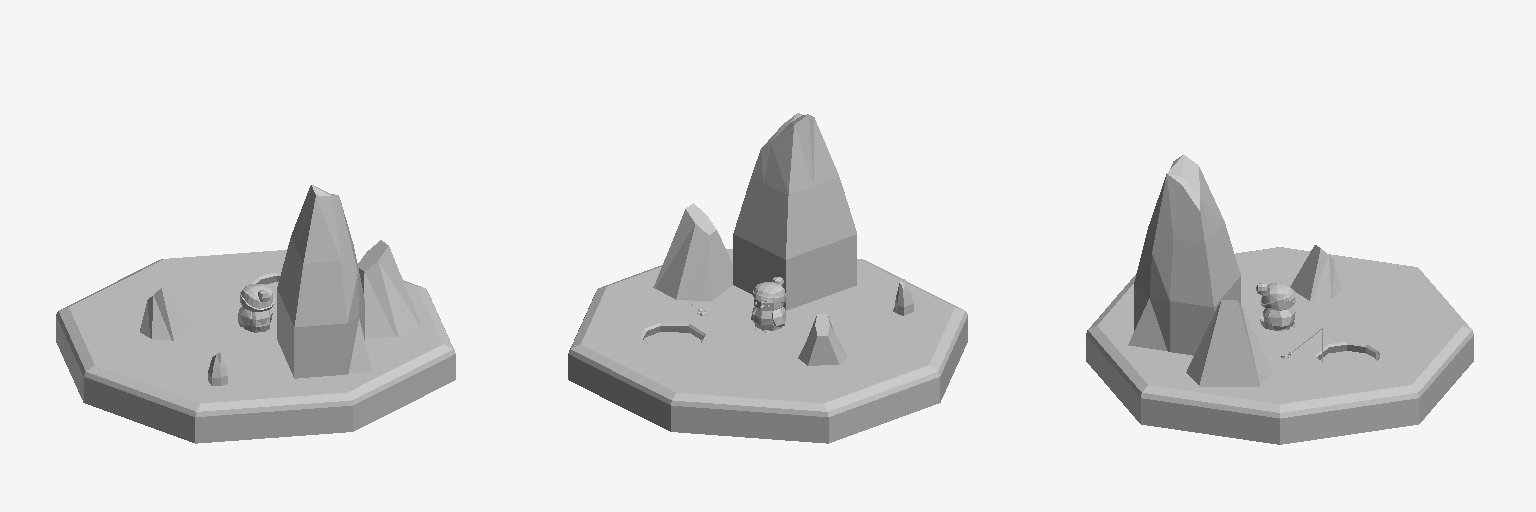
Rendered from pinguin1.obj.
3 views of the same model, side by side, from view 1: azimuth 30°, elevation 25°; view 2: azimuth 150°, elevation 25°; view 3: azimuth 270°, elevation 25° (orthographic).
Visible parts, largest first — view 1: Penguin_SprLowpoly; view 2: Penguin_SprLowpoly; view 3: Penguin_SprLowpoly.
Boxes of the visible parts, box(x1,y1,x2,y2) form: Penguin_SprLowpoly: box(56, 185, 455, 443); Penguin_SprLowpoly: box(568, 113, 967, 443); Penguin_SprLowpoly: box(1086, 155, 1473, 444).
Bounding box in the file's own units: 108 × 62.77 × 105.